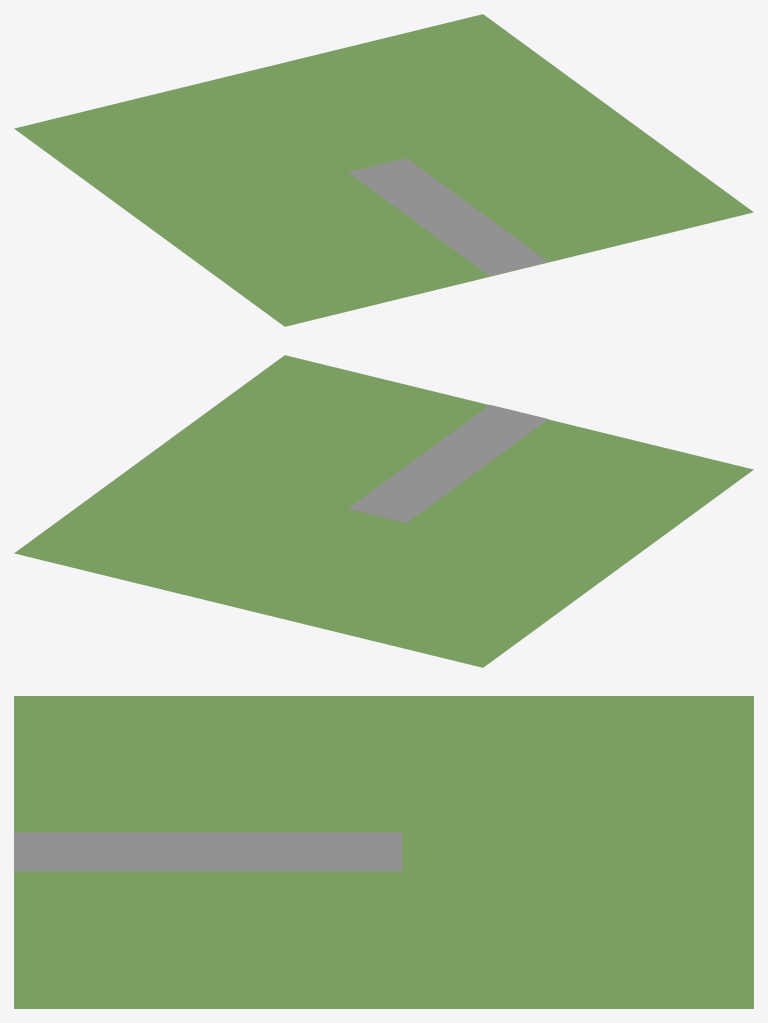
File: tile_for_home_1x1_005.fbx
The picture shows the model from 3 angles, top to bottom: view 1: azimuth 30°, elevation 25°; view 2: azimuth 150°, elevation 25°; view 3: azimuth 270°, elevation 25°; orthographic projection. The views are drawn at different scales.
Visible parts, largest first — view 1: tile_for_home_1x1_005; view 2: tile_for_home_1x1_005; view 3: tile_for_home_1x1_005.
Boxes of the visible parts, x1=… form: tile_for_home_1x1_005: x1=14, y1=14, x2=753, y2=326; tile_for_home_1x1_005: x1=14, y1=355, x2=753, y2=667; tile_for_home_1x1_005: x1=14, y1=696, x2=753, y2=1008.
Bounding box in the file's own units: 800 × 0.7365 × 800.
